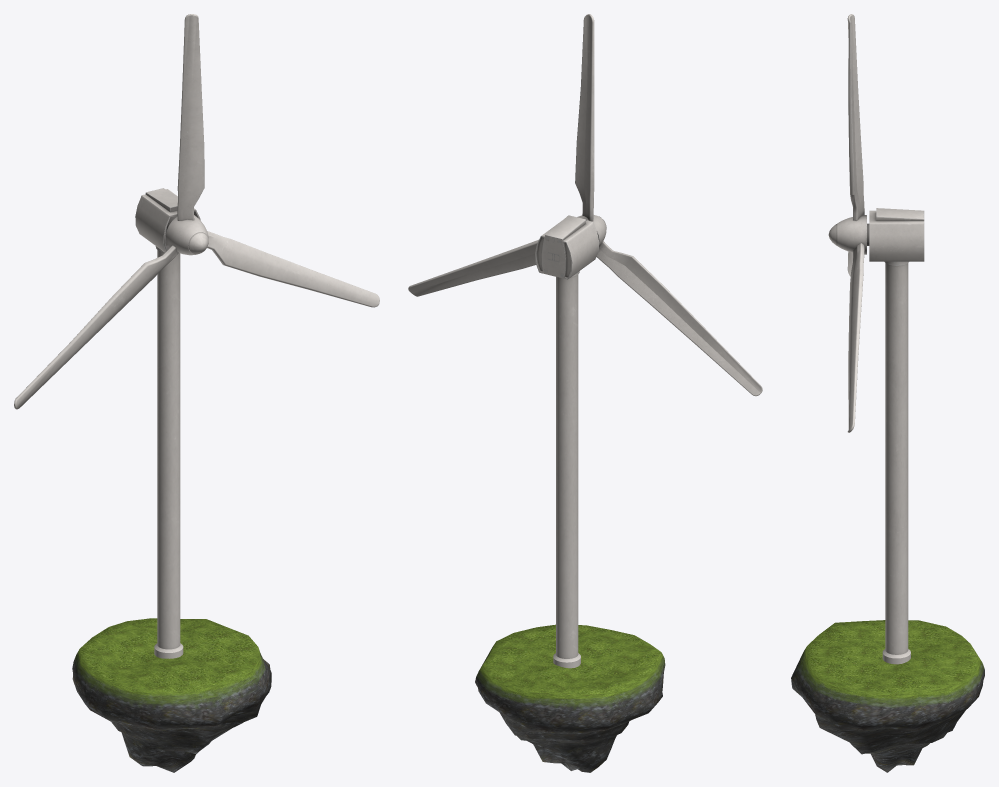
Rendered from wind-turbine.glb.
The picture shows the model from 3 angles, left to right: view 1: azimuth 30°, elevation 25°; view 2: azimuth 150°, elevation 25°; view 3: azimuth 270°, elevation 25°; orthographic projection. The views are drawn at different scales.
Parts seen in each view (by area): view 1: g, Blades, Main Unit; view 2: g, Main Unit, Blades; view 3: g, Main Unit, Blades.
Boxes of the visible parts, x1=… form: g: x1=72, y1=618, x2=271, y2=772; Blades: x1=14, y1=14, x2=379, y2=409; Main Unit: x1=135, y1=188, x2=200, y2=658; g: x1=475, y1=624, x2=665, y2=772; Main Unit: x1=535, y1=215, x2=599, y2=668; Blades: x1=408, y1=14, x2=762, y2=396; g: x1=791, y1=620, x2=984, y2=772; Main Unit: x1=869, y1=208, x2=924, y2=664; Blades: x1=828, y1=14, x2=869, y2=432.
Bounding box in the file's own units: 4.28 × 8.62 × 2.
Materials: 3 (3 with a texture image).
